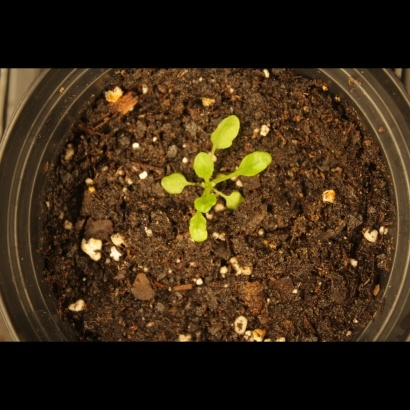leaf: (211, 113, 243, 155), (233, 148, 276, 179), (181, 213, 214, 249), (157, 168, 194, 200), (190, 149, 221, 184), (217, 186, 253, 216), (192, 190, 220, 215)
